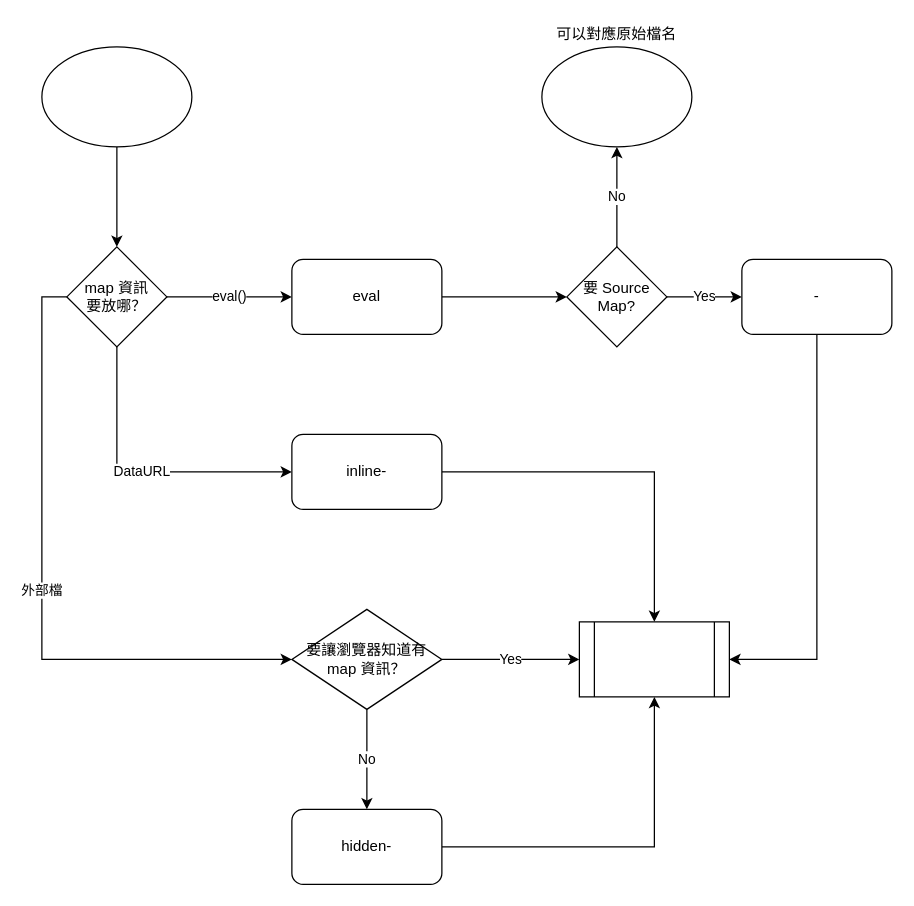
Image size: 914x906. Some labels were removed from this diagram. The centre of each missing label's shape, as x and y in pixels:
Finish: pixel 616 96
Start: pixel 116 96
如何產生 map 內容: pixel 653 659
